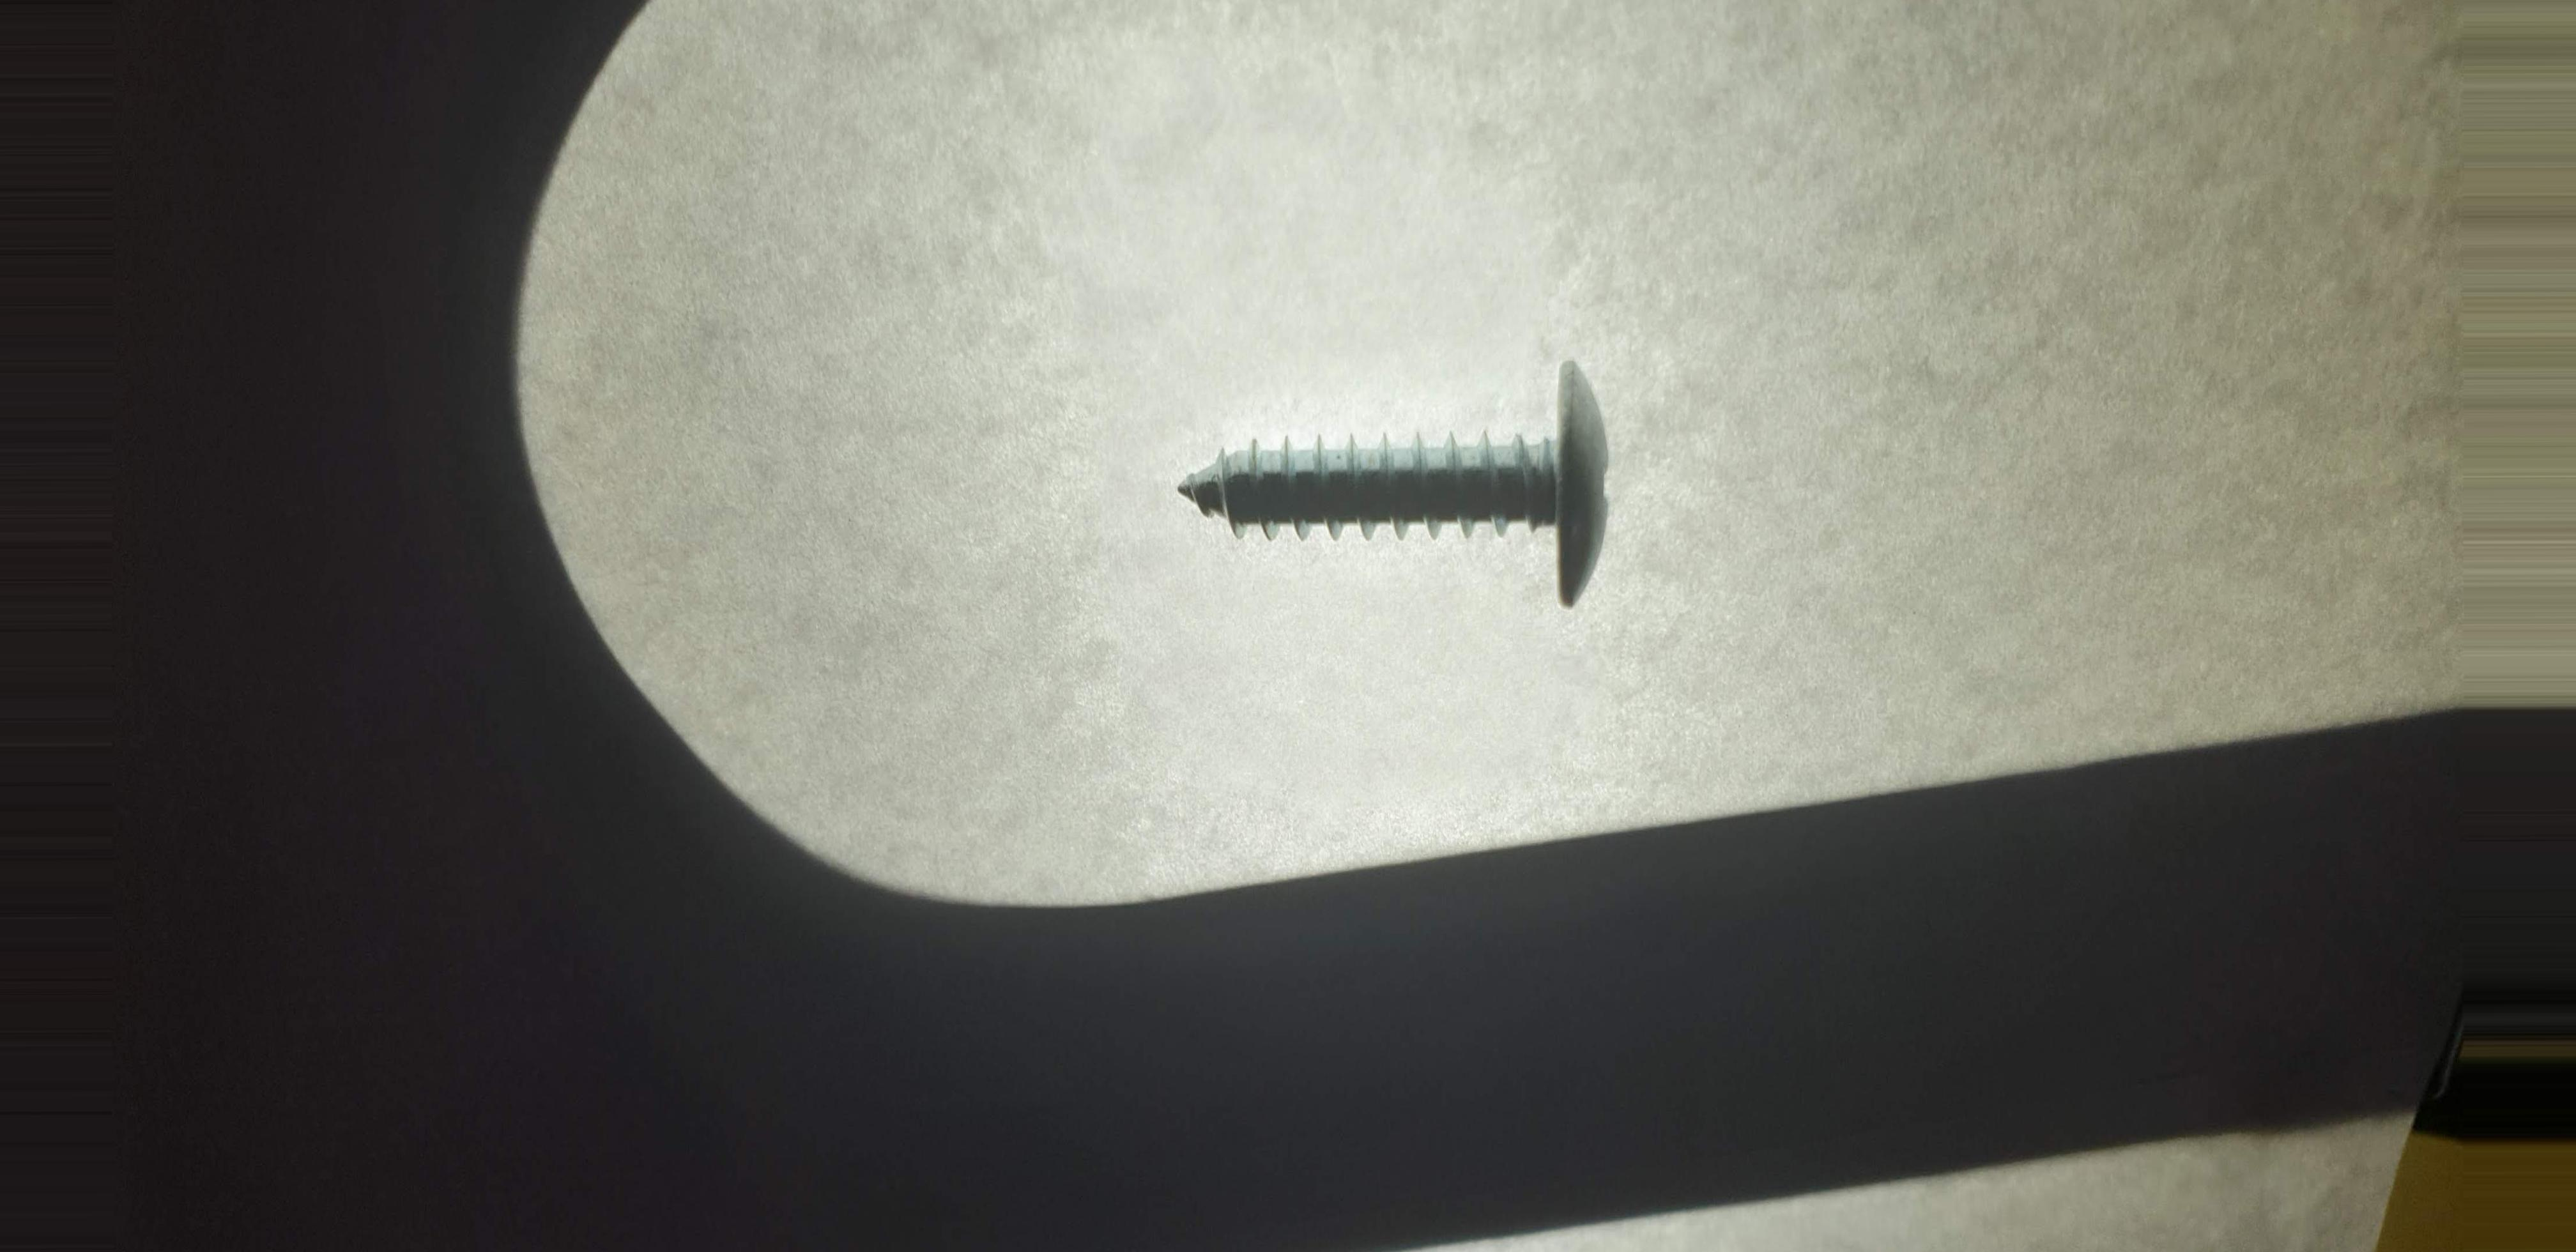S002: (1130, 317, 1690, 670)
